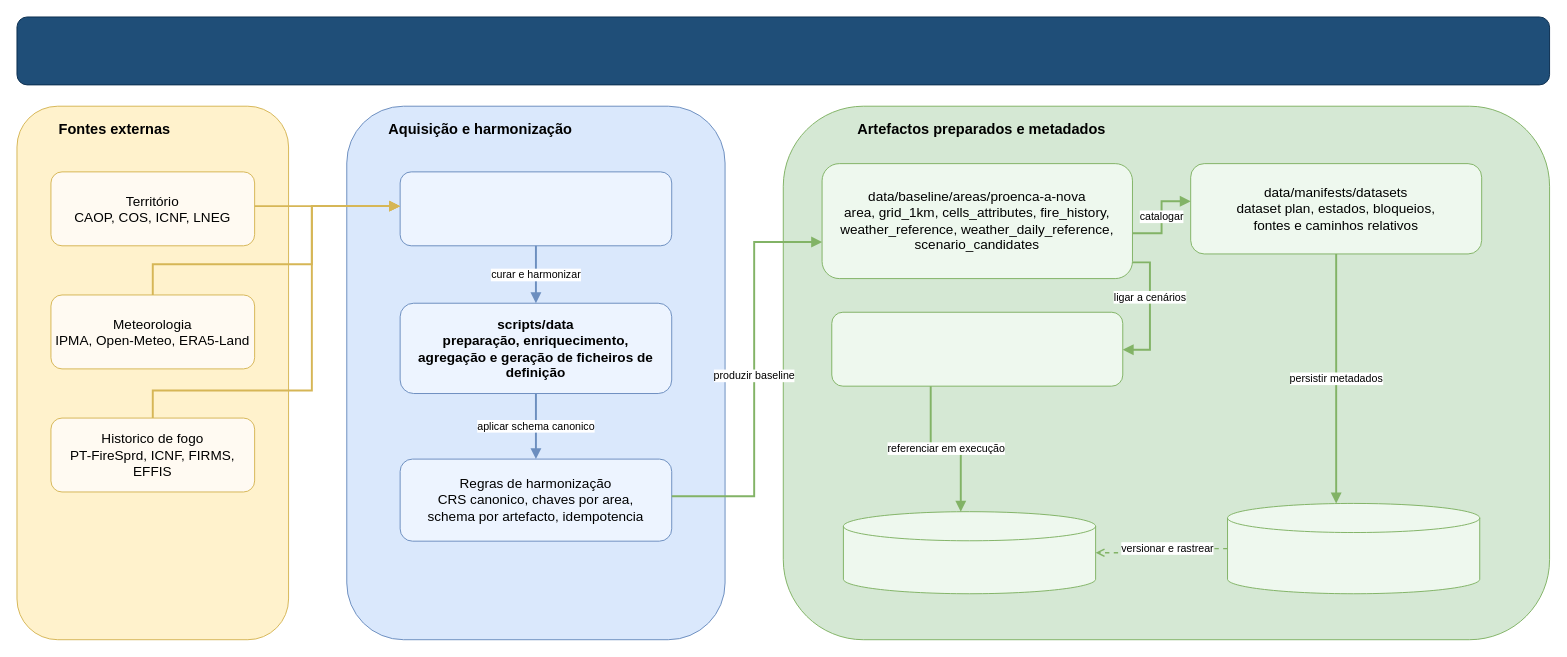
The diagram is 1567 pixels wide and 657 high, and some of its shapes have lost their labels. Here are the shapes that lost their labels. From the top down, the centre of each, then its label:
At point 783,50: "Preparação de dados e proveniência".
At point 535,208: "data/external inputs brutos, downloads e caches".
At point 977,348: "data/manifests/scenarios catálogo de cenários e manifests executáveis".
At point 969,552: "simulation_runs rastreio da execução para artefactos e cenários".
At point 1353,548: "Schema control em PostgreSQL dataset_artifacts scenario_dataset_bindings".
